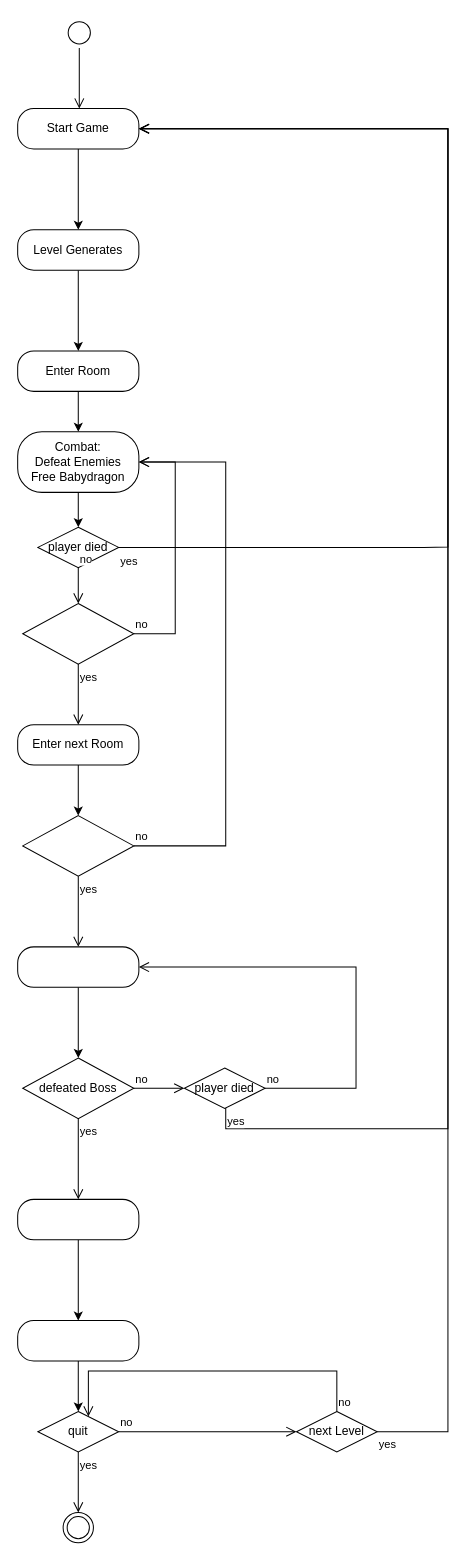
Some shapes in this 476 by 1560 pixel diagram are drawn without their labels. Each missing label, with the box of its shape:
Bossfight: (17, 946, 139, 987)
earn Reward: (17, 1198, 139, 1240)
reached Boss Room: (22, 815, 134, 876)
Room is cleared: (22, 602, 134, 664)
shop U pgrades: (17, 1320, 139, 1361)
